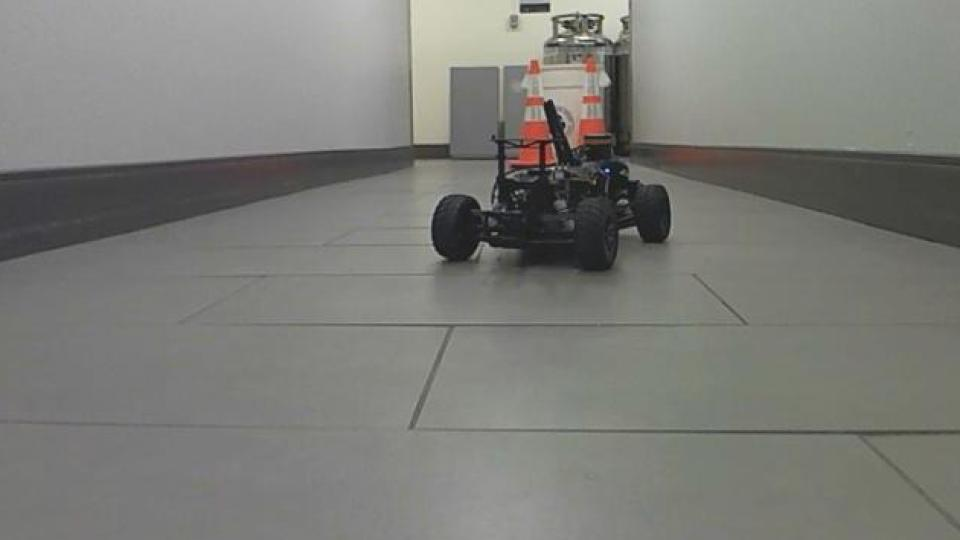car: (426, 96, 674, 273)
